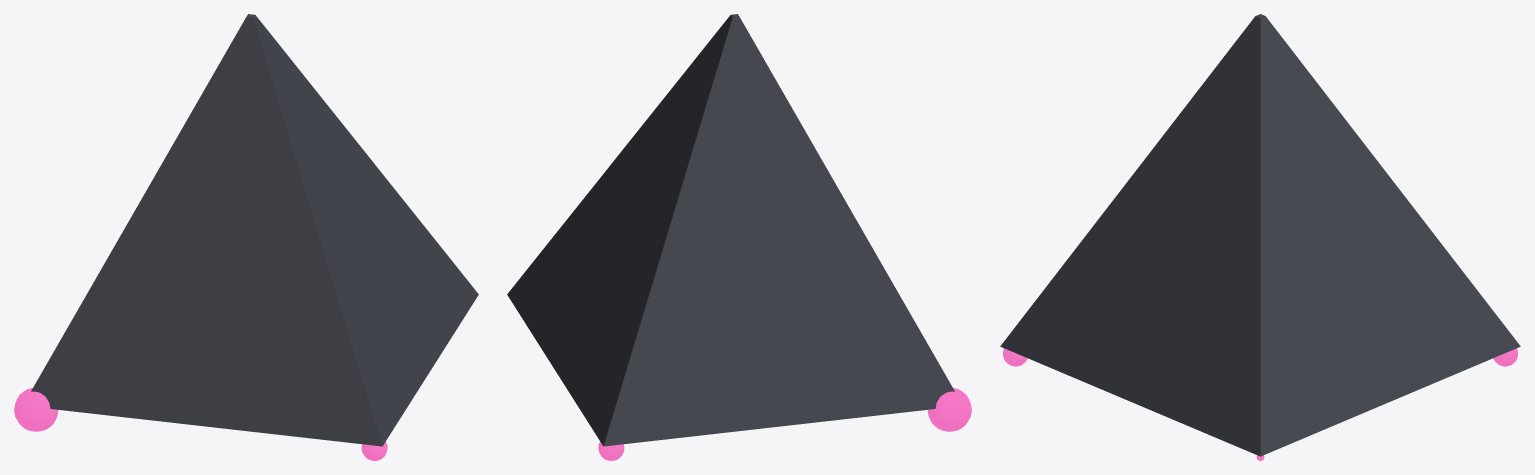
3 views of the same model, side by side, from view 1: azimuth 30°, elevation 25°; view 2: azimuth 150°, elevation 25°; view 3: azimuth 270°, elevation 25° (orthographic).
Visible parts, largest first — view 1: hull_mesh, corners; view 2: hull_mesh, corners; view 3: hull_mesh, corners.
Boxes of the visible parts, <box> form: hull_mesh: <box>31,14,478,446</box>; corners: <box>14,388,387,460</box>; hull_mesh: <box>507,14,954,446</box>; corners: <box>598,388,971,460</box>; hull_mesh: <box>1000,14,1520,456</box>; corners: <box>1003,348,1517,460</box>.
Bounding box in the file's own units: 20.25 × 15.15 × 20.
